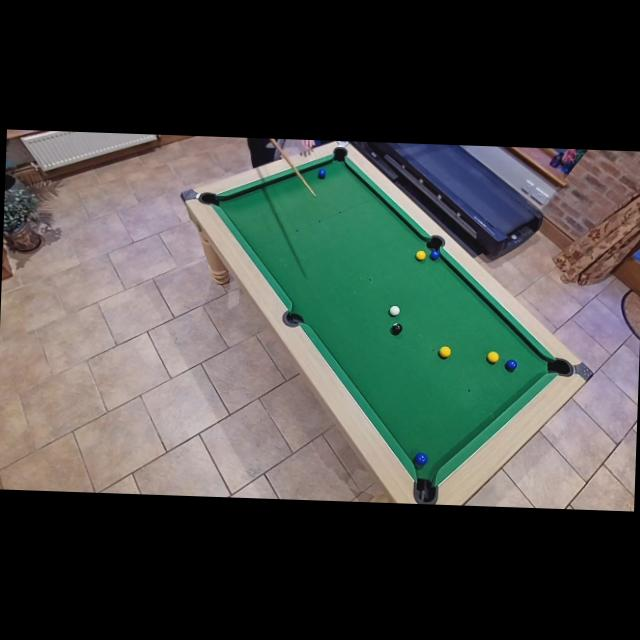Ball: (413, 452, 427, 465), (487, 351, 499, 363), (440, 346, 450, 358), (428, 250, 439, 260), (506, 359, 516, 370), (389, 306, 400, 316), (392, 322, 402, 333), (416, 250, 426, 260), (318, 168, 327, 178)
